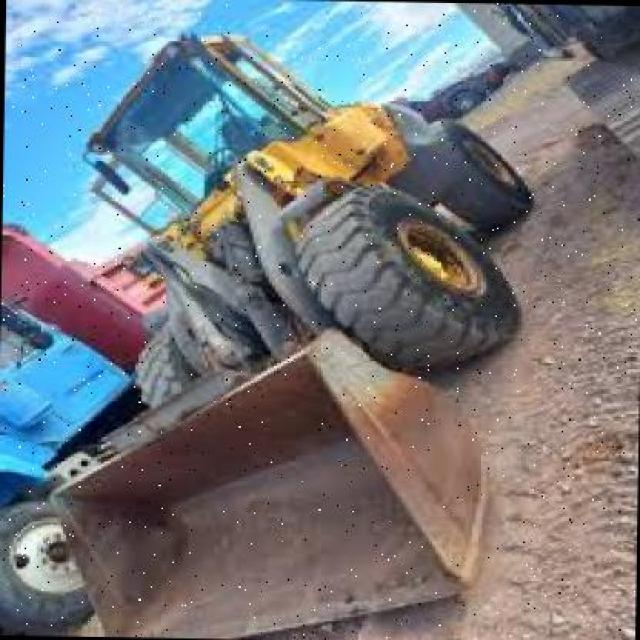buldozerpayloadergrader: (41, 21, 532, 640)
